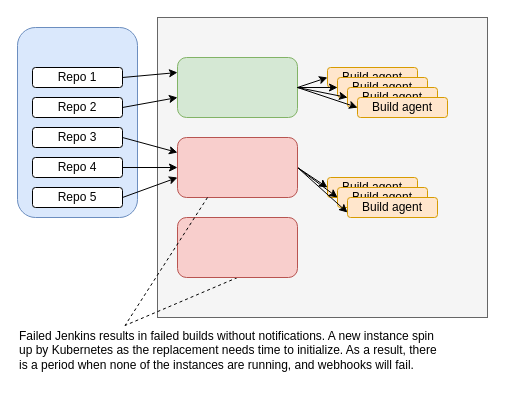
Some shapes in this 505 by 393 pixel diagram are drawn without their labels. Here are the shapes that lost their labels. From the top down, the box of each, then its label:
(176, 56, 298, 118): Jenkins A
(16, 26, 138, 218): Git
(176, 136, 298, 198): Failed Jenkins B
(156, 16, 488, 318): Cluster
(176, 216, 298, 278): New Jenkins B
